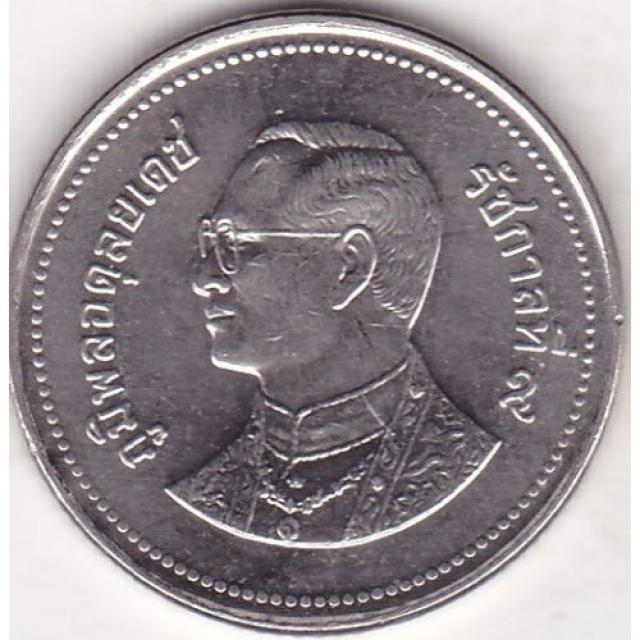2 Bath: (10, 11, 625, 640)
